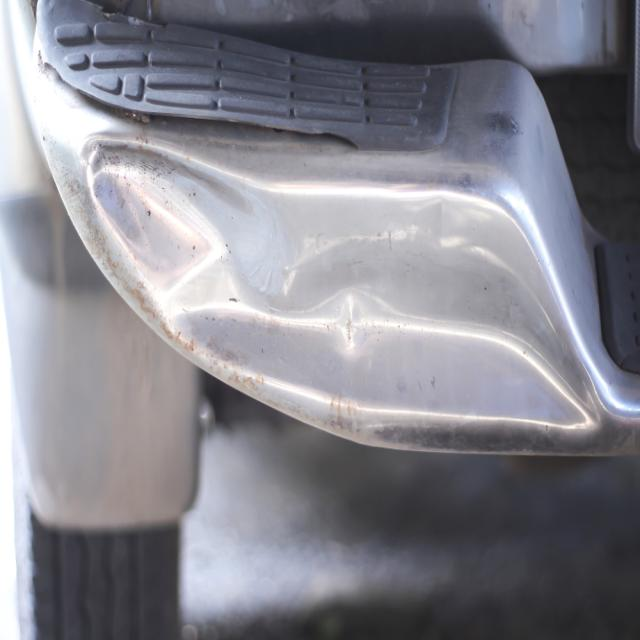dent: (92, 136, 600, 429)
